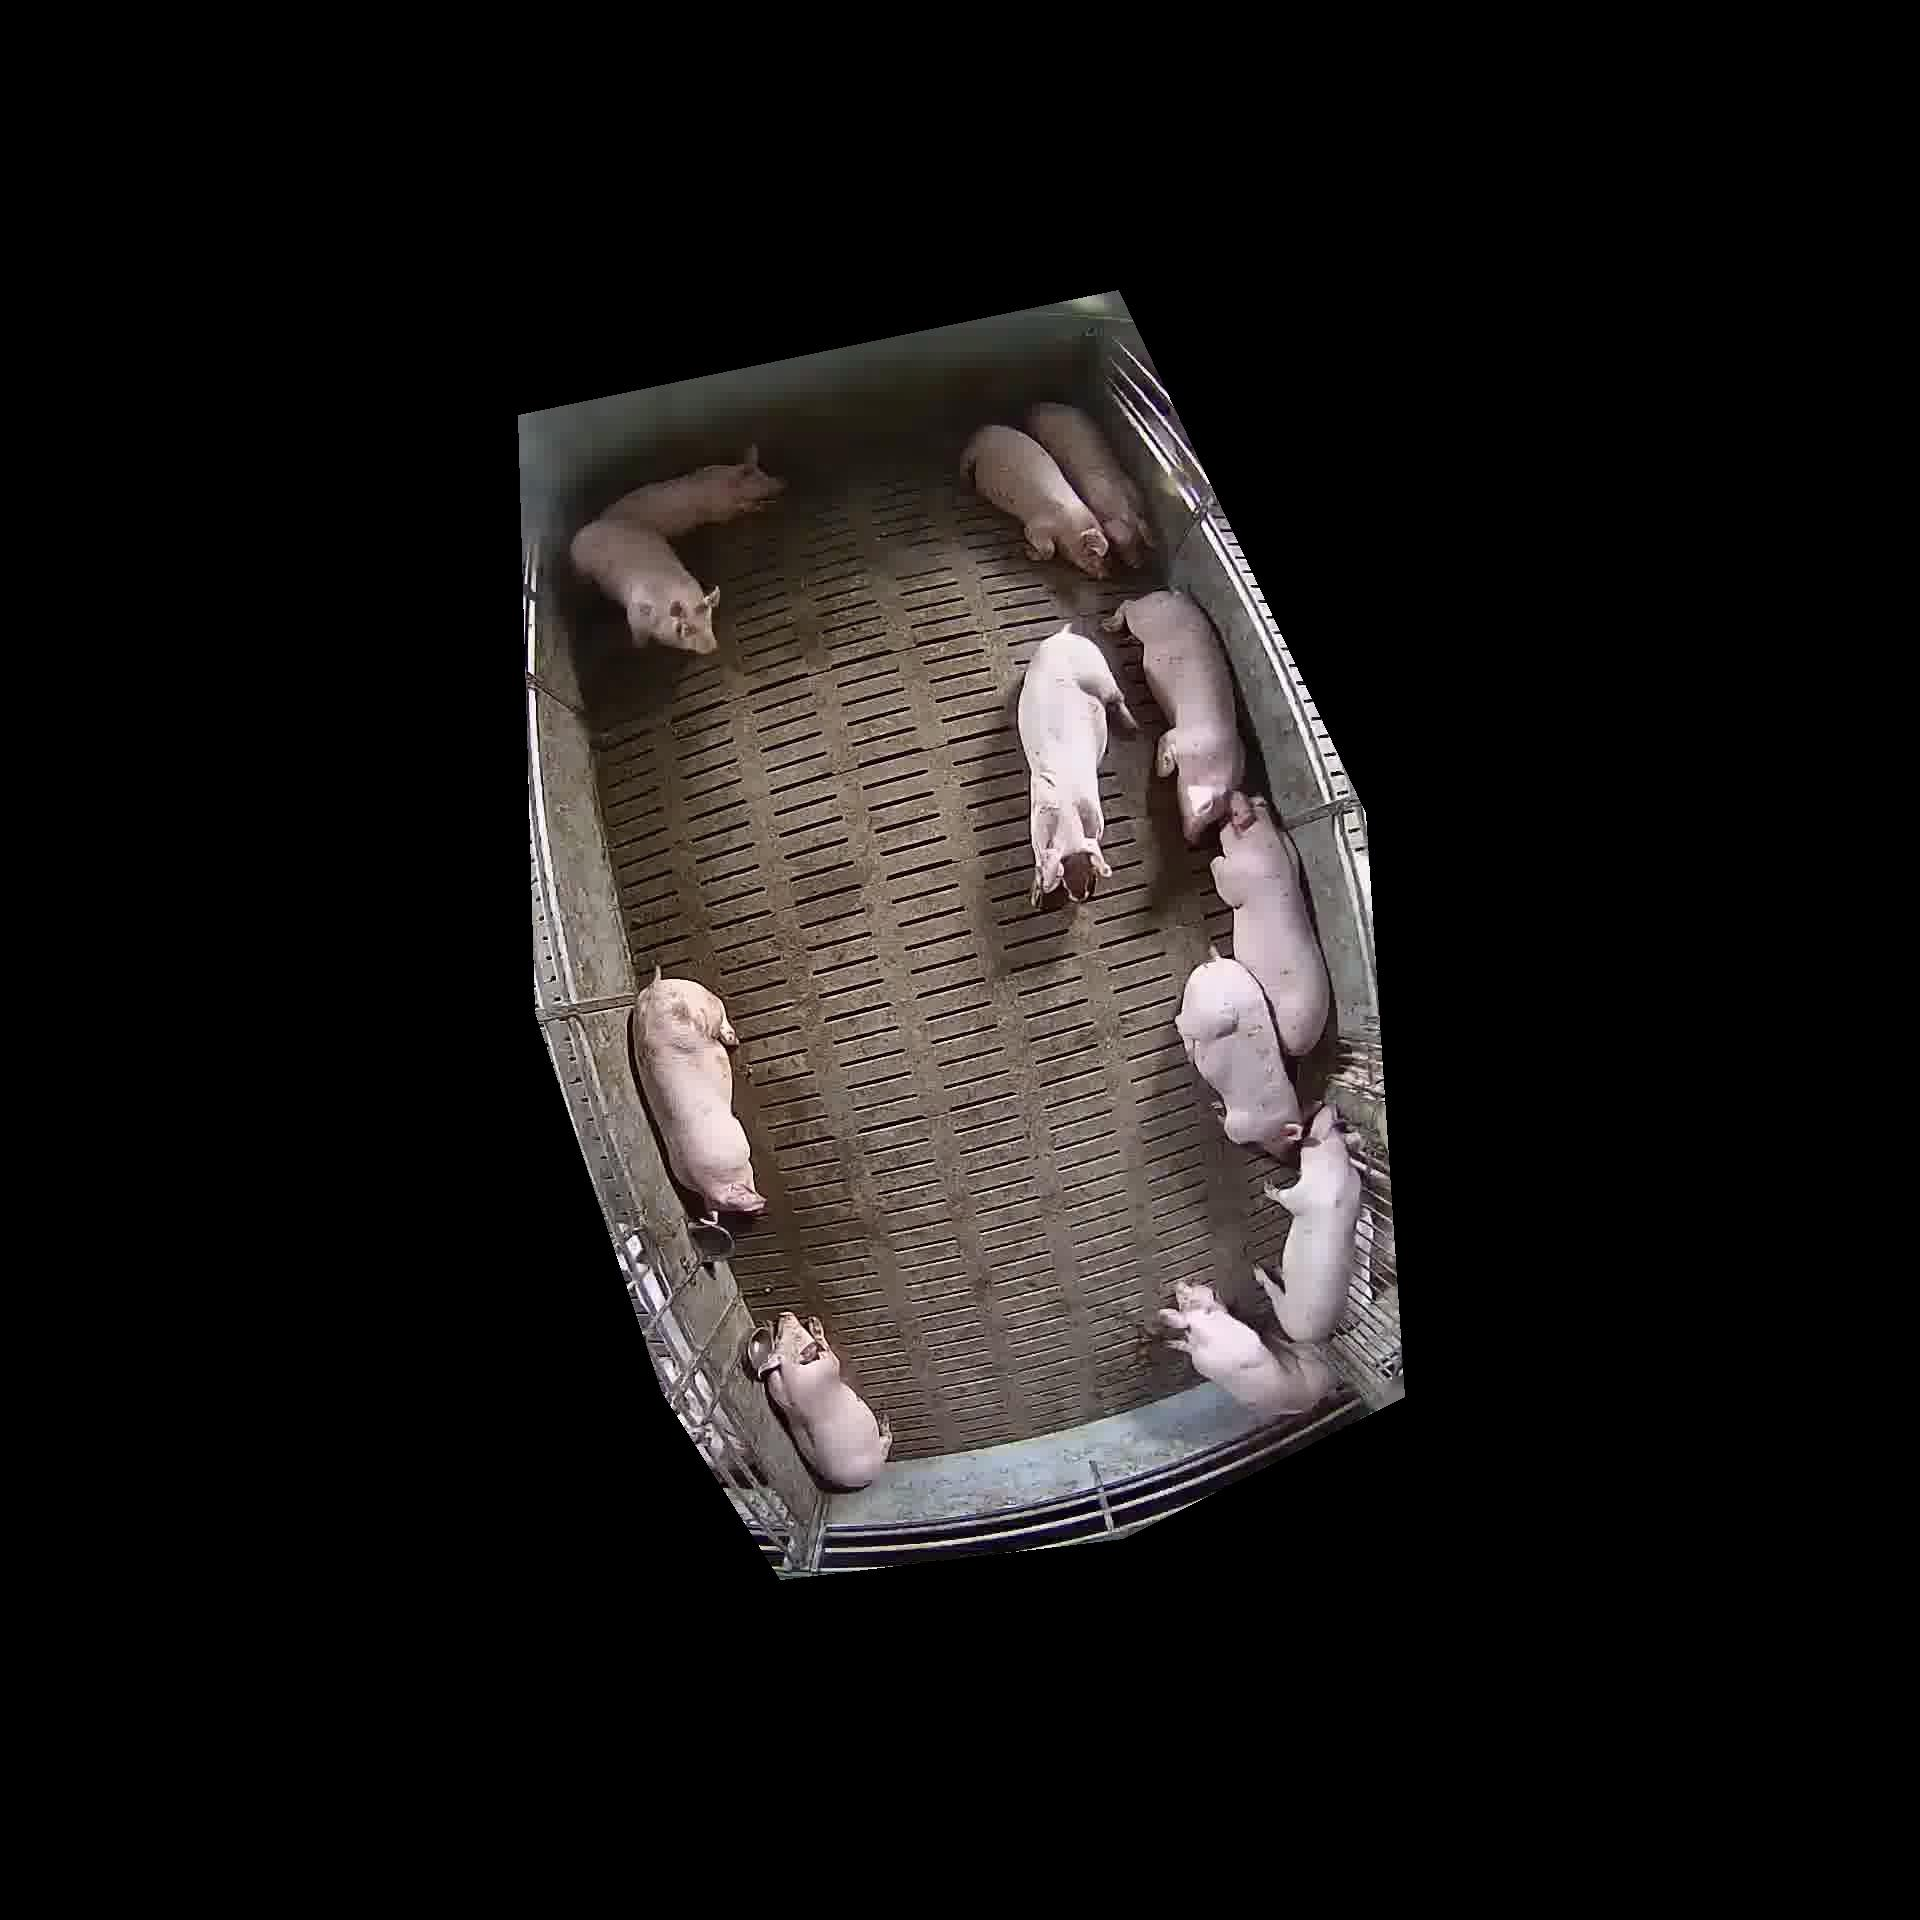pig: (570, 447, 784, 652), (1109, 591, 1245, 846), (1018, 624, 1136, 907), (633, 974, 765, 1211), (1211, 791, 1329, 1055), (747, 1312, 891, 1487), (1255, 1106, 1361, 1342), (1176, 958, 1301, 1157), (1160, 1282, 1336, 1421), (962, 425, 1108, 577), (570, 515, 719, 652), (1027, 403, 1152, 566), (601, 447, 784, 536)
